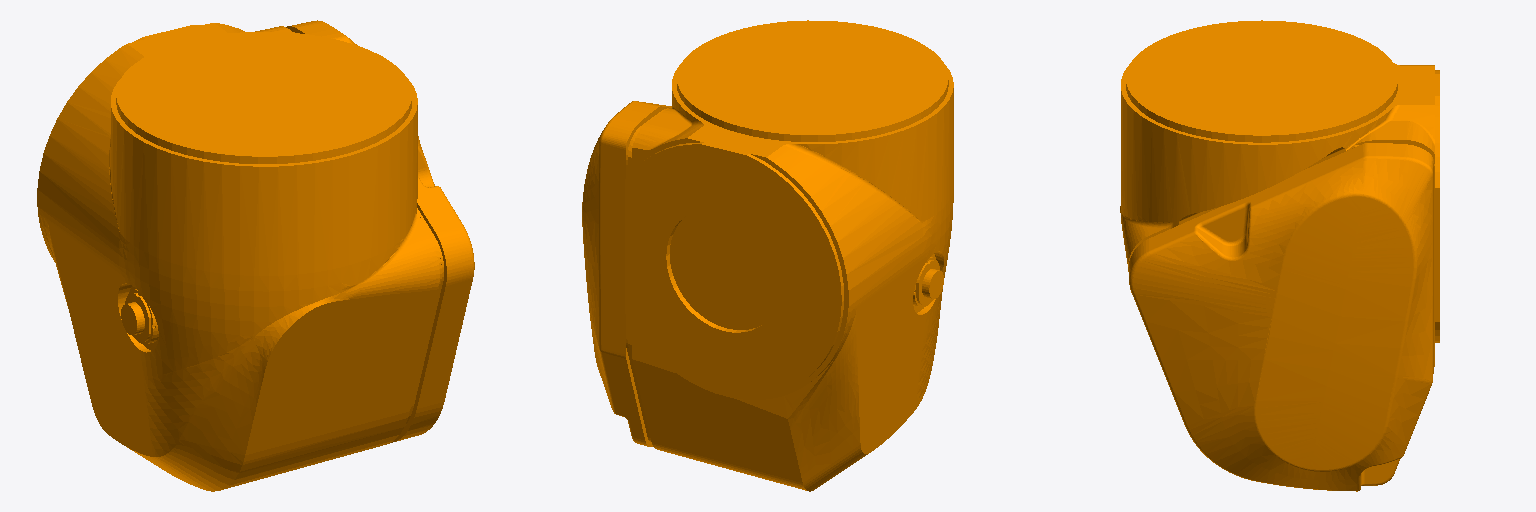
The robot description file, URDF, robot "staubli_tx40":
<?xml version="1.0" encoding="utf-8"?>
<!-- =================================================================================== -->
<!-- |    This document was autogenerated by xacro from tx40.xacro                     | -->
<!-- |    EDITING THIS FILE BY HAND IS NOT RECOMMENDED                                 | -->
<!-- =================================================================================== -->
<robot name="staubli_tx40">
  <!-- colours based on RAL values supplied by Staubli -->
  <!-- all RAL colours converted using http://www.visual-graphics.de/en/customer-care/ral-colours -->
  <!-- default colours for robots -->
  <!-- links: main serial chain -->
  <link name="base_link">
    <visual>
      <origin rpy="0 0 0" xyz="0 0 0"/>
      <geometry>
        <mesh filename="package://staubli_tx40_support/meshes/visual/base_link.stl"/>
      </geometry>
      <material name="">
        <color rgba="1.0 0.607843137255 0.0 1.0"/>
      </material>
    </visual>
    <collision>
      <origin rpy="0 0 0" xyz="0 0 0"/>
      <geometry>
        <mesh filename="package://staubli_tx40_support/meshes/collision/base_link.stl"/>
      </geometry>
    </collision>
    <!--
      <inertial>
        <mass value="5.82375"/>
        <origin xyz="-0.00892 -0.00017 0.07857" rpy="0.0 0.0 0.0"/>
        <inertia ixx="0.020725706" ixy="0.00008955" ixz="0.00193426"
                                     iyy="0.026779837"  iyz="0.000024618"
                                                          izz="0.021448879"/>
      </inertial>
      -->
  </link>
  <link name="link_1">
    <visual>
      <origin rpy="0 0 0" xyz="0 0 0"/>
      <geometry>
        <mesh filename="package://staubli_tx40_support/meshes/visual/link_1.stl"/>
      </geometry>
      <material name="">
        <color rgba="1.0 0.607843137255 0.0 1.0"/>
      </material>
    </visual>
    <collision>
      <origin rpy="0 0 0" xyz="0 0 0"/>
      <geometry>
        <mesh filename="package://staubli_tx40_support/meshes/collision/link_1.stl"/>
      </geometry>
    </collision>
    <inertial>
      <mass value="8.81740"/>
      <origin rpy="0.0 0.0 0.0" xyz="-0.00029 0.00931 -0.03386"/>
      <inertia ixx="0.050149637" ixy="0.000391605" ixz="400337.06" iyy="0.043332881" iyz="0.003817008" izz="0.032839343"/>
    </inertial>
  </link>
  <link name="link_2">
    <visual>
      <origin rpy="0 0 0" xyz="0 0 0"/>
      <geometry>
        <mesh filename="package://staubli_tx40_support/meshes/visual/link_2.stl"/>
      </geometry>
      <material name="">
        <color rgba="1.0 0.607843137255 0.0 1.0"/>
      </material>
    </visual>
    <collision>
      <origin rpy="0 0 0" xyz="0 0 0"/>
      <geometry>
        <mesh filename="package://staubli_tx40_support/meshes/collision/link_2.stl"/>
      </geometry>
    </collision>
    <inertial>
      <mass value="6.12815"/>
      <origin rpy="0.0 0.0 0.0" xyz="0.00008 0.14711 0.10312"/>
      <inertia ixx="0.056410712" ixy="-0.000058219" ixz="0.000080107" iyy="0.060088807" iyz="-0.000308218" izz="0.010289325"/>
    </inertial>
  </link>
  <link name="link_3">
    <visual>
      <origin rpy="0 0 0" xyz="0 0 0"/>
      <geometry>
        <mesh filename="package://staubli_tx40_support/meshes/visual/link_3.stl"/>
      </geometry>
      <material name="">
        <color rgba="1.0 0.607843137255 0.0 1.0"/>
      </material>
    </visual>
    <collision>
      <origin rpy="0 0 0" xyz="0 0 0"/>
      <geometry>
        <mesh filename="package://staubli_tx40_support/meshes/collision/link_3.stl"/>
      </geometry>
    </collision>
    <inertial>
      <mass value="3.36342"/>
      <origin rpy="0.0 0.0 0.0" xyz="0.00765 0.01281 -0.01551"/>
      <inertia ixx="0.008592818" ixy="0.000098473" ixz="-0.000358456" iyy="0.008894321" iyz="-0.000370698" izz="0.006740357"/>
    </inertial>
  </link>
  <link name="link_4">
    <visual>
      <origin rpy="0 0 0" xyz="0 0 0"/>
      <geometry>
        <mesh filename="package://staubli_tx40_support/meshes/visual/link_4.stl"/>
      </geometry>
      <material name="">
        <color rgba="1.0 0.607843137255 0.0 1.0"/>
      </material>
    </visual>
    <collision>
      <origin rpy="0 0 0" xyz="0 0 0"/>
      <geometry>
        <mesh filename="package://staubli_tx40_support/meshes/collision/link_4.stl"/>
      </geometry>
    </collision>
    <inertial>
      <mass value="2.63788"/>
      <origin rpy="0.0 0.0 0.0" xyz="-0.00283 0.00 0.14236"/>
      <inertia ixx="0.009920969" ixy="0.000000028" ixz="-0.000208997" iyy="0.008812832" iyz="0.000000954" izz="0.00406691"/>
    </inertial>
  </link>
  <link name="link_5">
    <visual>
      <origin rpy="0 0 0" xyz="0 0 0"/>
      <geometry>
        <mesh filename="package://staubli_tx40_support/meshes/visual/link_5.stl"/>
      </geometry>
      <material name="">
        <color rgba="0.529411764706 0.521568627451 0.505882352941 1.0"/>
      </material>
    </visual>
    <collision>
      <origin rpy="0 0 0" xyz="0 0 0"/>
      <geometry>
        <mesh filename="package://staubli_tx40_support/meshes/collision/link_5.stl"/>
      </geometry>
    </collision>
    <inertial>
      <mass value="0.21237"/>
      <origin rpy="0.0 0.0 0.0" xyz="0.00 0.00 0.01975"/>
      <inertia ixx="0.000117818" ixy="0.00" ixz="-0.000000003" iyy="0.000132032" iyz="-0.00000000345" izz="0.000054314"/>
    </inertial>
  </link>
  <link name="link_6">
    <visual>
      <origin rpy="0 0 0" xyz="0 0 0"/>
      <geometry>
        <mesh filename="package://staubli_tx40_support/meshes/visual/link_6.stl"/>
      </geometry>
      <material name="">
        <color rgba="0.529411764706 0.521568627451 0.505882352941 1.0"/>
      </material>
    </visual>
    <collision>
      <origin rpy="0 0 0" xyz="0 0 0"/>
      <geometry>
        <mesh filename="package://staubli_tx40_support/meshes/collision/link_6.stl"/>
      </geometry>
    </collision>
    <inertial>
      <mass value="0.01746"/>
      <origin rpy="0.0 0.0 0.0" xyz="-0.00023 0.00 -0.00463"/>
      <inertia ixx="0.000002221" ixy="0.00" ixz="-0.000000005" iyy="0.000002156" iyz="0.0" izz="0.000004187"/>
    </inertial>
  </link>
  <!-- joints: main serial chain -->
  <joint name="joint_1" type="revolute">
    <origin rpy="0 0 0" xyz="0 0 0.32"/>
    <parent link="base_link"/>
    <child link="link_1"/>
    <axis xyz="0 0 1"/>
    <limit effort="40.0" lower="-3.14159265359" upper="3.14159265359" velocity="5.00909495322"/>
    <dynamics damping="0.0" friction="0.0"/>
  </joint>
  <joint name="joint_2" type="revolute">
    <origin rpy="0 0 0" xyz="0 0 0"/>
    <parent link="link_1"/>
    <child link="link_2"/>
    <axis xyz="0 1 0"/>
    <limit effort="11.0" lower="-2.18166156499" upper="2.18166156499" velocity="5.00909495322"/>
    <dynamics damping="0.0" friction="0.0"/>
  </joint>
  <joint name="joint_3" type="revolute">
    <origin rpy="0 0 0" xyz="0 0.035 0.225"/>
    <parent link="link_2"/>
    <child link="link_3"/>
    <axis xyz="0 1 0"/>
    <limit effort="8.0" lower="-2.40855436775" upper="2.40855436775" velocity="7.50491578358"/>
    <dynamics damping="0.0" friction="0.0"/>
  </joint>
  <joint name="joint_4" type="revolute">
    <origin rpy="0 0 0" xyz="0 0 0"/>
    <parent link="link_3"/>
    <child link="link_4"/>
    <axis xyz="0 0 1"/>
    <limit effort="4.0" lower="-4.71238898038" upper="4.71238898038" velocity="7.15584993318"/>
    <dynamics damping="0.0" friction="0.0"/>
  </joint>
  <joint name="joint_5" type="revolute">
    <origin rpy="0 0 0" xyz="0 0 0.225"/>
    <parent link="link_4"/>
    <child link="link_5"/>
    <axis xyz="0 1 0"/>
    <limit effort="2.6" lower="-2.09439510239" upper="2.33001455141" velocity="5.58505360638"/>
    <dynamics damping="0.0" friction="0.0"/>
  </joint>
  <joint name="joint_6" type="revolute">
    <origin rpy="0 0 0" xyz="0 0 0.065"/>
    <parent link="link_5"/>
    <child link="link_6"/>
    <axis xyz="0 0 1"/>
    <limit effort="1.4" lower="-4.71238898038" upper="4.71238898038" velocity="12.217304764"/>
    <dynamics damping="0.0" friction="0.0"/>
  </joint>
  
  
  <!-- ROS-Industrial 'base' frame: base_link to Staubli World Coordinates transform -->
  
  <link name="base"/>
  <joint name="base_link-base" type="fixed">
    <origin rpy="0 0 0" xyz="0 0 0.32"/>
    <parent link="base_link"/>
    <child link="base"/>
  </joint>
  
  <!-- ROS-Industrial 'flange' frame: attachment point for EEF models -->
  
  <link name="flange"/>
  <joint name="joint_6-flange" type="fixed">
    <origin rpy="0 -1.57079632679 0" xyz="0 0 0"/>
    <parent link="link_6"/>
    <child link="flange"/>
  </joint>
  
  <!-- ROS-Industrial 'tool0' frame: all-zeros tool frame -->
  <link name="tool0"/>
  <joint name="flange-tool0" type="fixed">
    <origin rpy="0 1.57079632679 0" xyz="0 0 0"/>
    <parent link="flange"/>
    <child link="tool0"/>
  </joint>
</robot>

--- Facts derived from the render (not from the file) ---
The picture shows the robot from 3 angles, left to right: view 1: azimuth 30°, elevation 25°; view 2: azimuth 150°, elevation 25°; view 3: azimuth 270°, elevation 25°; orthographic projection.
Model staubli_tx40 with 10 links and 9 joints (6 revolute, 3 fixed), rooted at base_link, posed every joint at zero.
Links seen in each view (by area): view 1: link_3; view 2: link_3; view 3: link_3.
Boxes of the visible links, <box> form: link_3: <box>37,20,474,491</box>; link_3: <box>582,20,953,491</box>; link_3: <box>1120,20,1439,491</box>.
Size in the robot's own frame: 0.1264 by 0.1243 by 0.1531 metres.
Meshes: 7 distinct files referenced, 1 mesh visuals loaded (1 binary STL); not drawn: 6 (reference not matched to a file when rendering).